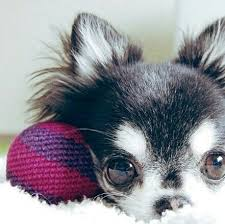chihuahua: (33, 7, 224, 221)
